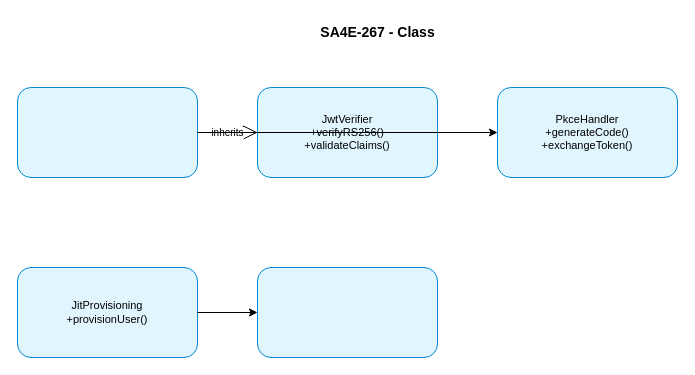
Some shapes in this 695 by 375 pixel diagram are drawn without their labels. The shapes that lost their labels are listed below. From the top down, each one's centre as x and y in pixels, then its label:
At (x=107, y=132): "AuthManager +authenticate() +verifyToken()".
At (x=347, y=312): "EntraConfig +getAuthority()".
